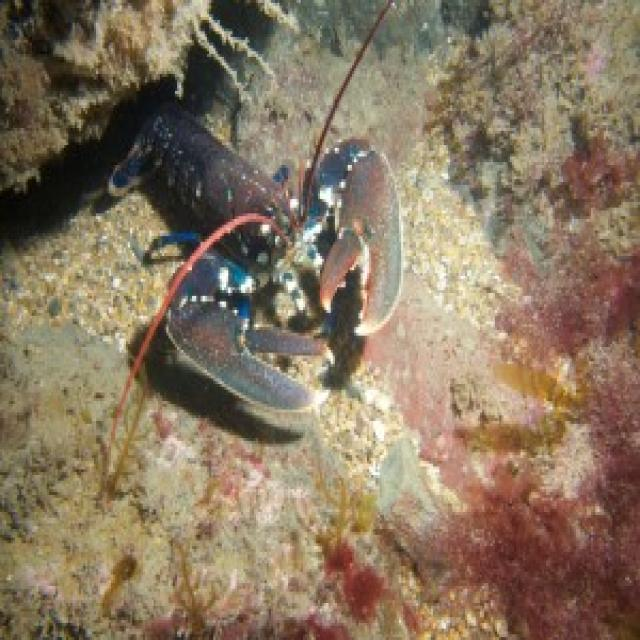lobsters: (55, 0, 488, 434)
